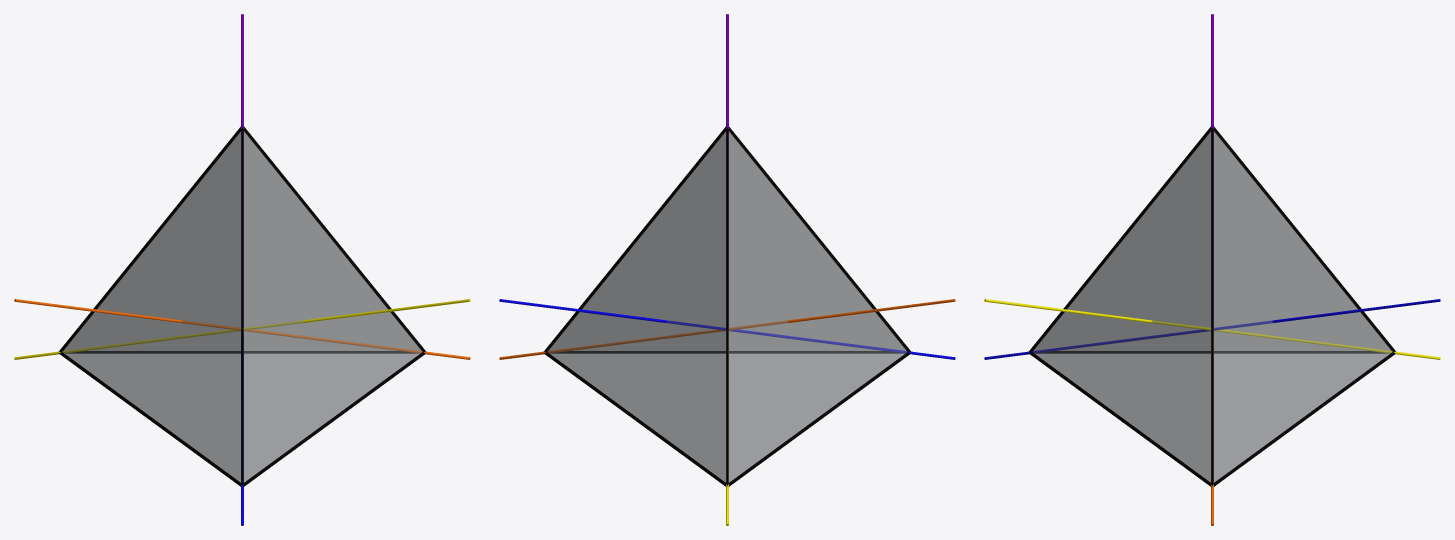
Rendered from ptm_caras.glb.
3 views of the same model, side by side, from view 1: azimuth 30°, elevation 25°; view 2: azimuth 150°, elevation 25°; view 3: azimuth 270°, elevation 25° (orthographic).
Parts seen in each view (by area): view 1: Solid, Solid.002, Cylinder.002, Cylinder.004, Cylinder.003; view 2: Solid, Solid.002, Cylinder.001, Cylinder.002, Cylinder.003; view 3: Solid, Solid.002, Cylinder.004, Cylinder.001, Cylinder.003.
Boxes of the visible parts, left/top/right/bottom form: Solid: left=62, top=131, right=422, bottom=482; Solid.002: left=59, top=126, right=425, bottom=486; Cylinder.002: left=14, top=299, right=470, bottom=359; Cylinder.004: left=14, top=299, right=470, bottom=359; Cylinder.003: left=241, top=14, right=243, bottom=327; Solid: left=547, top=131, right=907, bottom=482; Solid.002: left=544, top=126, right=910, bottom=486; Cylinder.001: left=499, top=299, right=955, bottom=359; Cylinder.002: left=499, top=299, right=955, bottom=359; Cylinder.003: left=726, top=14, right=728, bottom=327; Solid: left=1032, top=131, right=1392, bottom=482; Solid.002: left=1029, top=126, right=1395, bottom=486; Cylinder.004: left=984, top=299, right=1440, bottom=359; Cylinder.001: left=984, top=299, right=1440, bottom=359; Cylinder.003: left=1211, top=14, right=1213, bottom=327.
Bounding box in the file's own units: 2.35 × 2.46 × 2.04.
